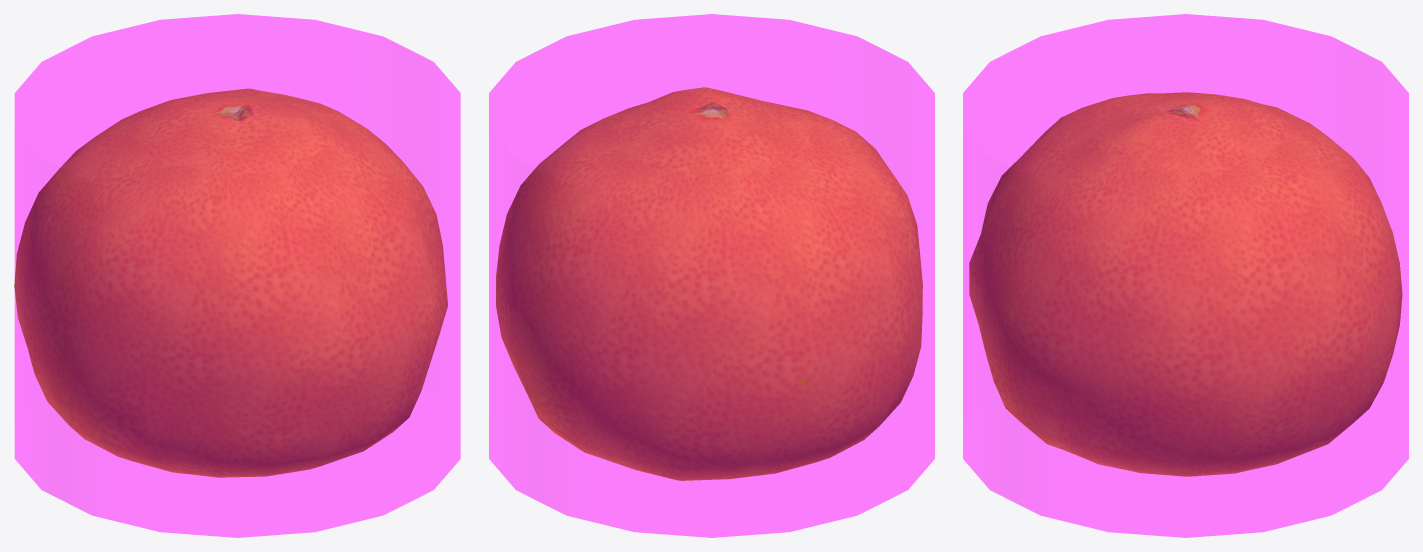
File: orange.fbx
3 renders of one model, left to right at view 1: azimuth 30°, elevation 25°; view 2: azimuth 150°, elevation 25°; view 3: azimuth 270°, elevation 25°, orthographic.
Visible parts, largest first — view 1: boundingbox, orange; view 2: boundingbox, orange; view 3: boundingbox, orange.
Boxes of the visible parts, x1,y1,x2,y2 form: boundingbox: (14, 14, 460, 537); orange: (14, 88, 447, 477); boundingbox: (489, 14, 934, 537); orange: (496, 87, 922, 480); boundingbox: (963, 14, 1408, 537); orange: (969, 92, 1402, 476).
Size of the model in its own units: 5.27 by 4.27 by 5.19.
3 materials, 2 textured.
